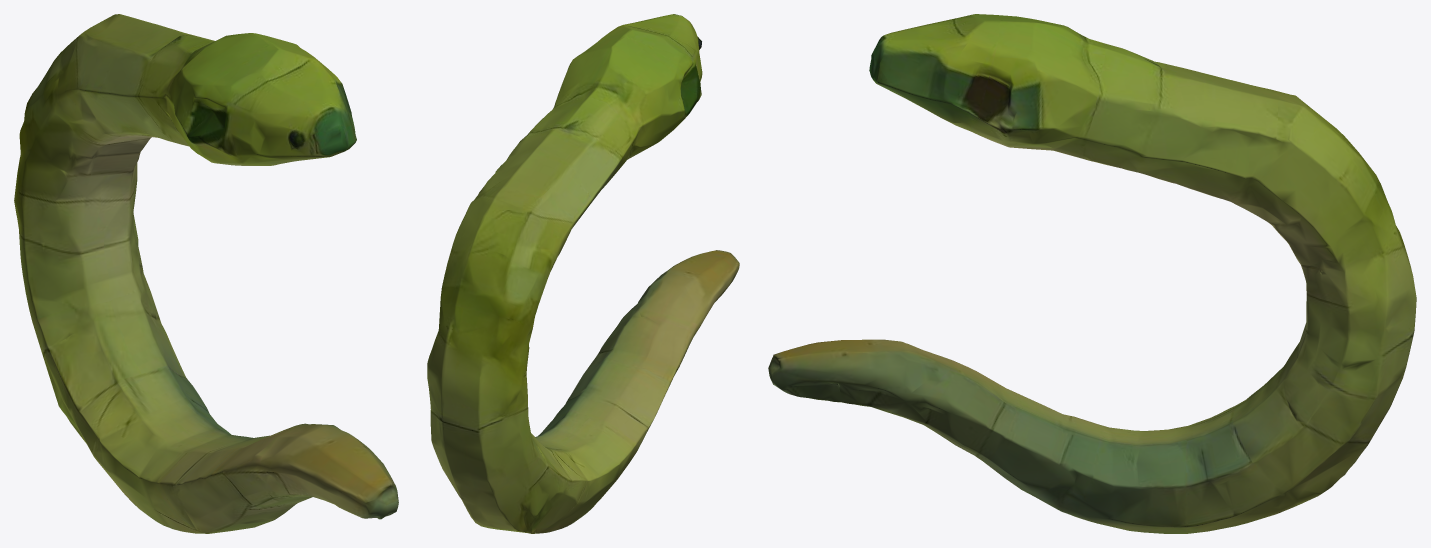
File: fishEel.glb
The picture shows the model from 3 angles, left to right: view 1: azimuth 30°, elevation 25°; view 2: azimuth 150°, elevation 25°; view 3: azimuth 270°, elevation 25°; orthographic projection. The views are drawn at different scales.
Visible parts, largest first — view 1: tripo_node_b1caca99-85ef-4265-a93e-ee231690d101; view 2: tripo_node_b1caca99-85ef-4265-a93e-ee231690d101; view 3: tripo_node_b1caca99-85ef-4265-a93e-ee231690d101.
Part boxes in pixels (box(x1,y1,x2,y2)): tripo_node_b1caca99-85ef-4265-a93e-ee231690d101: box(14, 14, 398, 533); tripo_node_b1caca99-85ef-4265-a93e-ee231690d101: box(427, 14, 739, 533); tripo_node_b1caca99-85ef-4265-a93e-ee231690d101: box(768, 14, 1416, 533).
Bounding box in the file's own units: 0.2833 × 1 × 1.16.
1 material, 1 textured.
